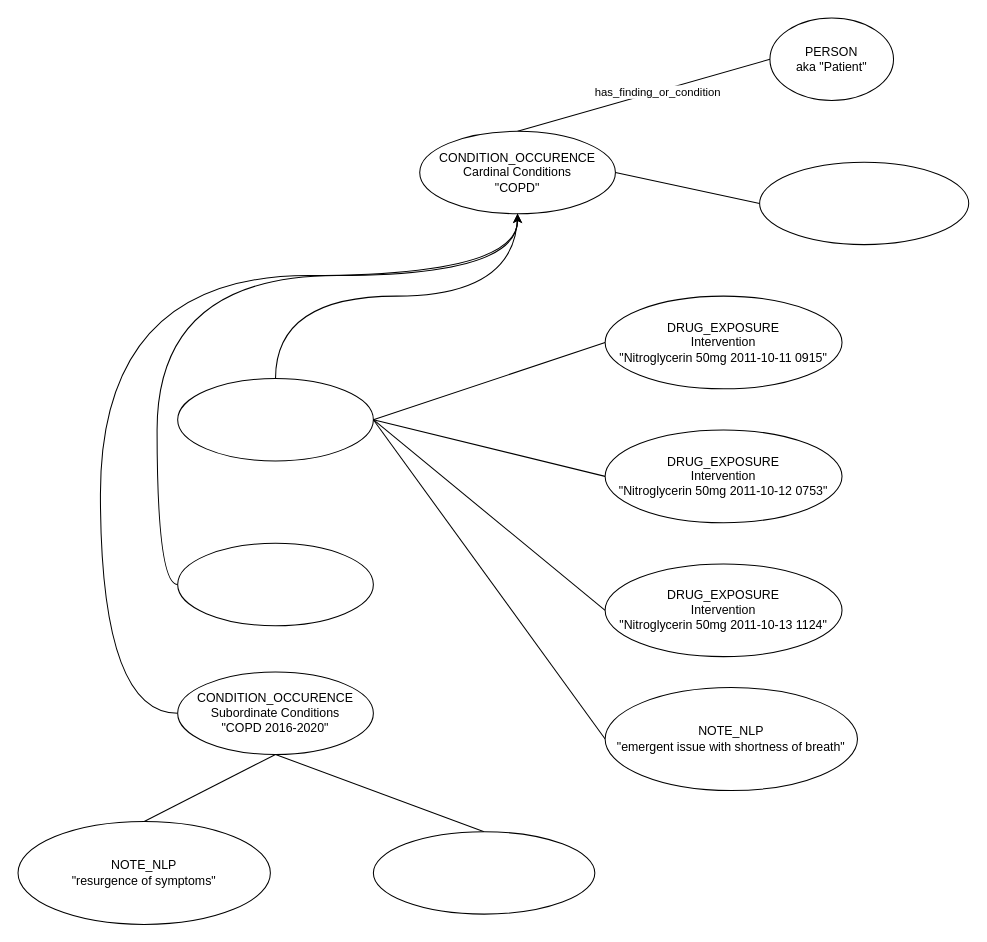
Some shapes in this 987 by 942 pixel diagram are drawn without their labels. Each missing label, with the box of its shape:
CONDITION_OCCURENCE Subordinate Conditions "COPD 2011-2015": (177, 377, 373, 461)
CONDITION_OCCURENCE Subordinate Conditions "COPD 2015-2016": (177, 542, 373, 626)
MEASUREMENT Value "CRP = xxx": (372, 831, 595, 914)
NOTE_NLP "multiple flare-ups for 2 months": (759, 161, 969, 245)
